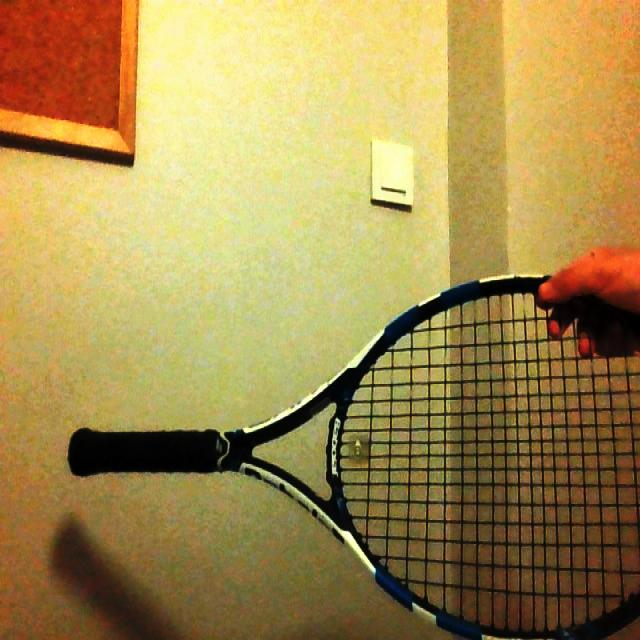TennisRacket: (70, 271, 640, 640)
